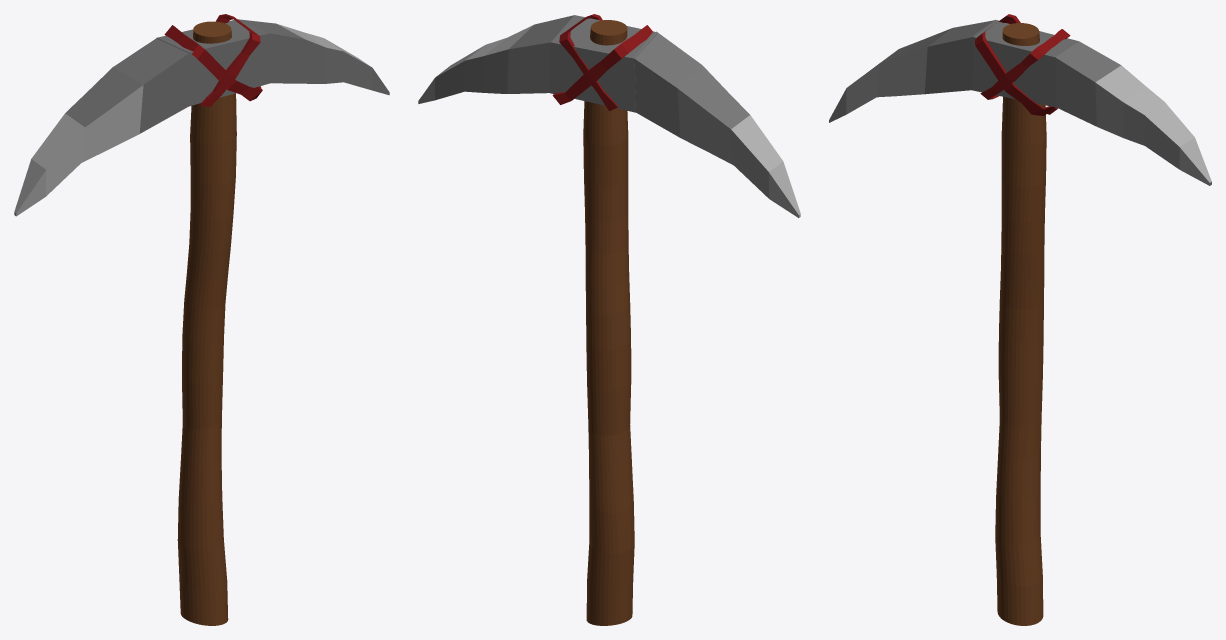
Rendered from pickaxe.fbx.
3 views of the same model, side by side, from view 1: azimuth 30°, elevation 25°; view 2: azimuth 150°, elevation 25°; view 3: azimuth 330°, elevation 25° (orthographic).
Visible parts, largest first — view 1: Kilof; view 2: Kilof; view 3: Kilof.
Boxes of the visible parts, bbox=[...] form: Kilof: bbox=[14, 14, 389, 625]; Kilof: bbox=[418, 14, 800, 625]; Kilof: bbox=[829, 14, 1211, 625].
Bounding box in the file's own units: 298 × 446 × 48.2.
